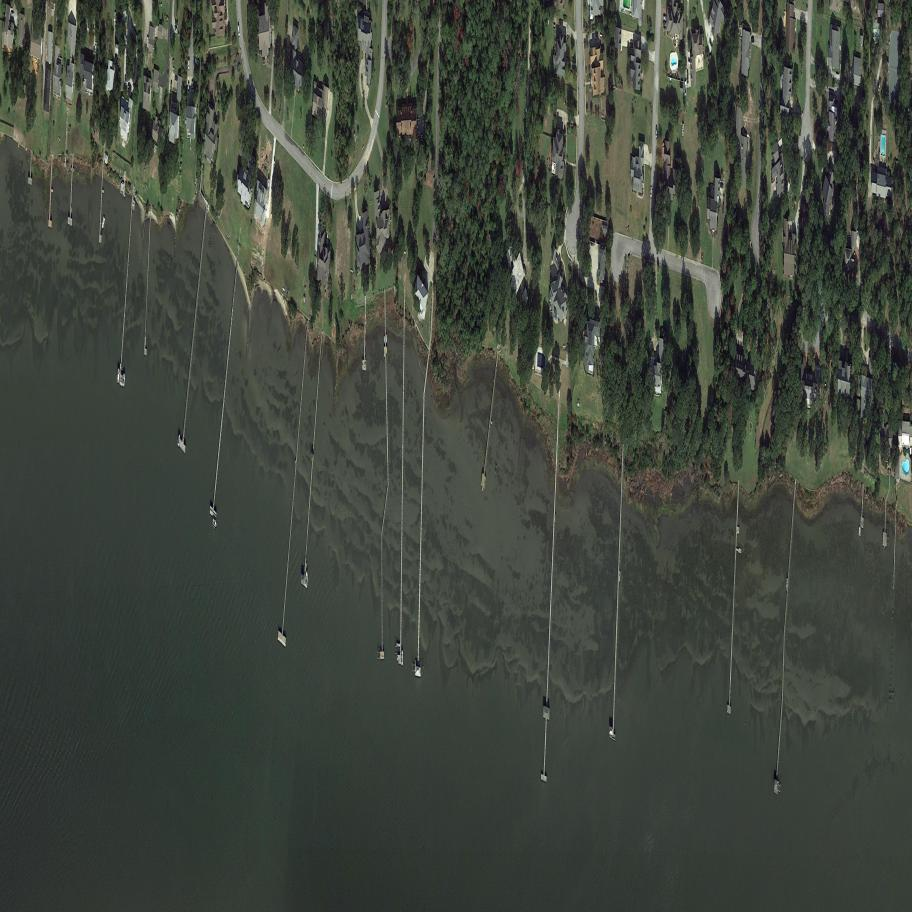ship: (193, 57, 201, 67), (101, 215, 106, 230), (212, 517, 217, 529), (177, 433, 181, 448), (305, 571, 308, 589), (117, 368, 120, 384), (401, 650, 404, 666), (122, 372, 125, 388), (685, 81, 687, 98), (682, 123, 684, 136), (147, 37, 148, 49), (859, 526, 860, 536), (384, 335, 385, 345), (386, 334, 387, 344)
small-vehicle: (523, 263, 527, 276), (127, 84, 132, 93), (878, 79, 881, 93), (124, 74, 127, 87), (211, 92, 214, 104), (709, 38, 713, 47), (835, 72, 840, 79), (685, 56, 687, 69), (10, 11, 14, 17), (720, 182, 724, 188), (722, 202, 724, 214), (238, 25, 240, 37), (95, 40, 97, 51), (114, 11, 116, 22), (170, 83, 172, 94), (188, 59, 190, 70), (650, 187, 652, 198), (175, 75, 178, 82), (174, 26, 177, 32), (175, 19, 178, 25), (595, 32, 598, 38), (663, 21, 666, 27), (663, 15, 666, 20), (595, 39, 598, 44), (751, 38, 754, 43), (687, 70, 688, 84), (656, 127, 657, 139), (188, 83, 189, 94), (192, 82, 193, 93)
